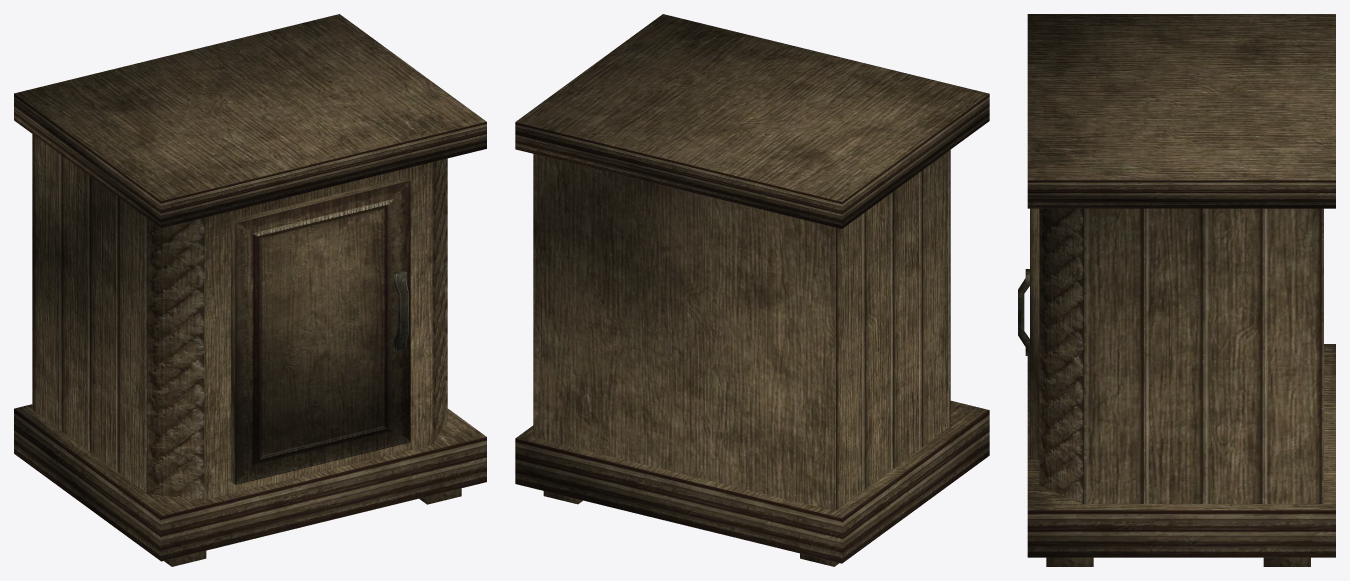
Rendered from GS_VOB_BEDCASE_BROWN_01_KOZA.glb.
3 views of the same model, side by side, from view 1: azimuth 30°, elevation 25°; view 2: azimuth 150°, elevation 25°; view 3: azimuth 270°, elevation 25° (orthographic). The views are drawn at different scales.
Parts seen in each view (by area): view 1: Mesh; view 2: Mesh; view 3: Mesh.
Part boxes in pixels (box(x1,y1,x2,y2)): Mesh: box(14, 14, 486, 566); Mesh: box(515, 14, 989, 566); Mesh: box(1018, 14, 1335, 566).
Size of the model in its own units: 0.8159 by 0.9034 by 0.6589.
Materials: 4 (4 with a texture image).
